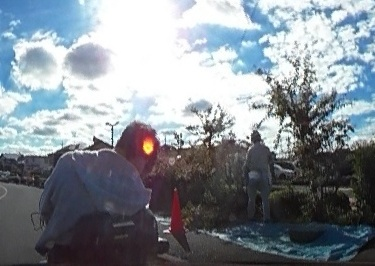person: (38, 118, 161, 250), (242, 127, 275, 222)
